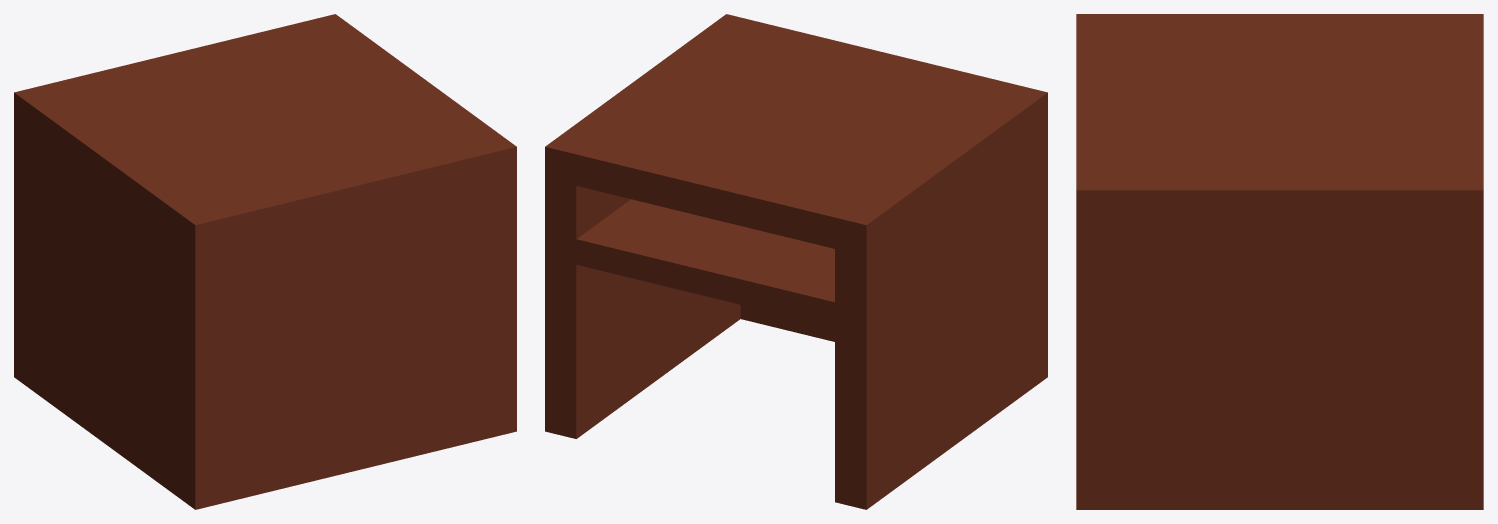
Rendered from meja.fbx.
The picture shows the model from 3 angles, left to right: view 1: azimuth 30°, elevation 25°; view 2: azimuth 150°, elevation 25°; view 3: azimuth 270°, elevation 25°; orthographic projection. The views are drawn at different scales.
Parts seen in each view (by area): view 1: Cube.008; view 2: Cube.008; view 3: Cube.008.
Boxes of the visible parts, x1,y1,x2,y2 form: Cube.008: (14,14,516,509); Cube.008: (545,14,1047,509); Cube.008: (1076,14,1483,509).
Bounding box in the file's own units: 72.48 × 61.33 × 70.83.
